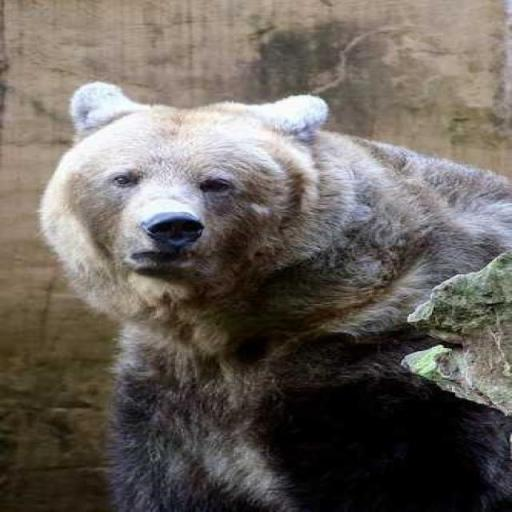Bear: (37, 80, 510, 511)
